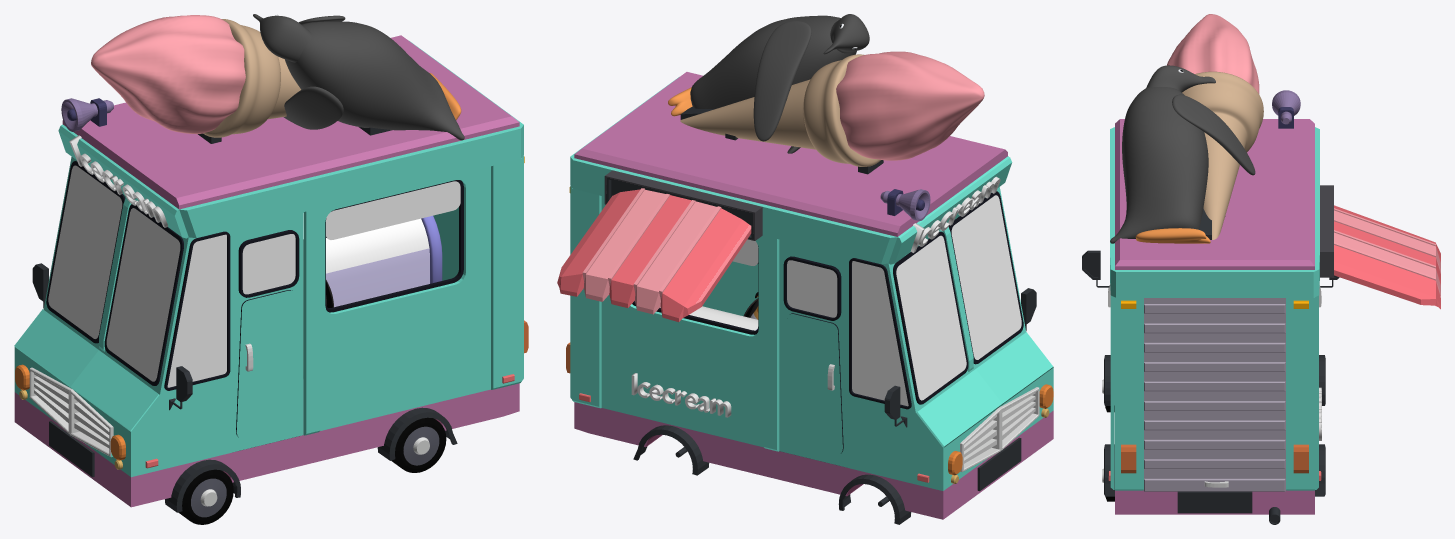
The model's file is Icecream truck Texturing Versuch 1.glb.
3 renders of one model, left to right at view 1: azimuth 30°, elevation 25°; view 2: azimuth 150°, elevation 25°; view 3: azimuth 270°, elevation 25°, orthographic. The views are drawn at different scales.
Parts seen in each view (by area): view 1: Seitenverkleidung, Eiswagen, Dach, Windschutzscheibe, Eis, Pingu, Türen, Boden, Seitenfenster Hinten, Motorhaube, seitenfenster vorn neu, Reifen (+17 smaller); view 2: Dach, Eiswagen, Eis, Seitenverkleidung, Windschutzscheibe, Türen, Pingu, Boden, Sonnenschutz 2, Sonnenschutz, Motorhaube, Seitenfenster Hinten (+16 smaller); view 3: Ladetür Hinten, Seitenverkleidung, Dach, Pingu, Eis, Sonnenschutz 2, Boden, Sonnenschutz, deko, radabdeckung, sonnenschutzgestell, Rücklichter (+3 smaller).
Boxes of the visible parts, bbox=[...] form: Seitenverkleidung: bbox=[58, 41, 523, 435]; Eiswagen: bbox=[131, 166, 490, 477]; Dach: bbox=[62, 35, 519, 209]; Windschutzscheibe: bbox=[46, 161, 183, 385]; Eis: bbox=[91, 15, 300, 137]; Pingu: bbox=[253, 14, 464, 140]; Türen: bbox=[232, 212, 303, 452]; Boden: bbox=[14, 383, 519, 507]; Seitenfenster Hinten: bbox=[303, 170, 476, 355]; Motorhaube: bbox=[14, 309, 159, 431]; seitenfenster vorn neu: bbox=[167, 234, 226, 387]; Reifen: bbox=[178, 417, 446, 524]; Dach: bbox=[574, 72, 1007, 236]; Eiswagen: bbox=[601, 196, 943, 490]; Eis: bbox=[680, 51, 984, 166]; Seitenverkleidung: bbox=[570, 77, 1012, 451]; Windschutzscheibe: bbox=[893, 191, 1023, 404]; Türen: bbox=[779, 239, 847, 467]; Pingu: bbox=[690, 14, 869, 153]; Boden: bbox=[574, 402, 1053, 519]; Sonnenschutz 2: bbox=[557, 189, 751, 322]; Sonnenschutz: bbox=[582, 188, 721, 314]; Motorhaube: bbox=[916, 332, 1053, 447]; Seitenfenster Hinten: bbox=[615, 235, 763, 375]; Ladetür Hinten: bbox=[1144, 298, 1285, 491]; Seitenverkleidung: bbox=[1110, 127, 1319, 490]; Dach: bbox=[1115, 119, 1314, 269]; Pingu: bbox=[1110, 65, 1255, 243]; Eis: bbox=[1167, 14, 1263, 239]; Sonnenschutz 2: bbox=[1334, 205, 1440, 309]; Boden: bbox=[1115, 490, 1314, 514]; Sonnenschutz: bbox=[1334, 208, 1440, 296]; deko: bbox=[1177, 491, 1280, 524]; radabdeckung: bbox=[1104, 355, 1325, 496]; sonnenschutzgestell: bbox=[1320, 185, 1333, 277]; Rücklichter: bbox=[1121, 300, 1308, 473].
Bounding box in the file's own units: 3.78 × 4.01 × 3.35.
15 materials, 7 textured.
